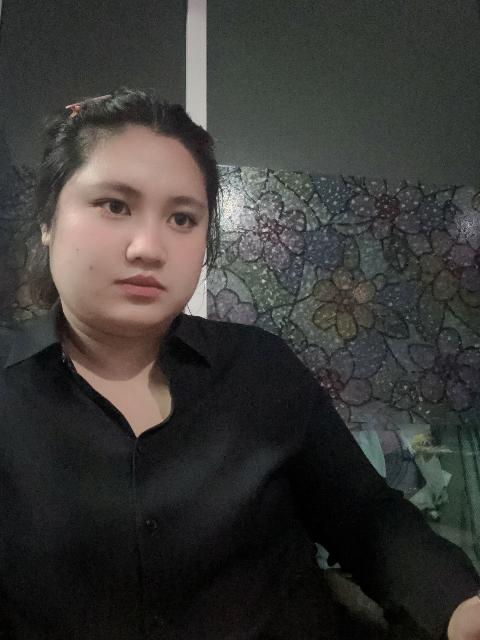fokus: (46, 97, 209, 337)
